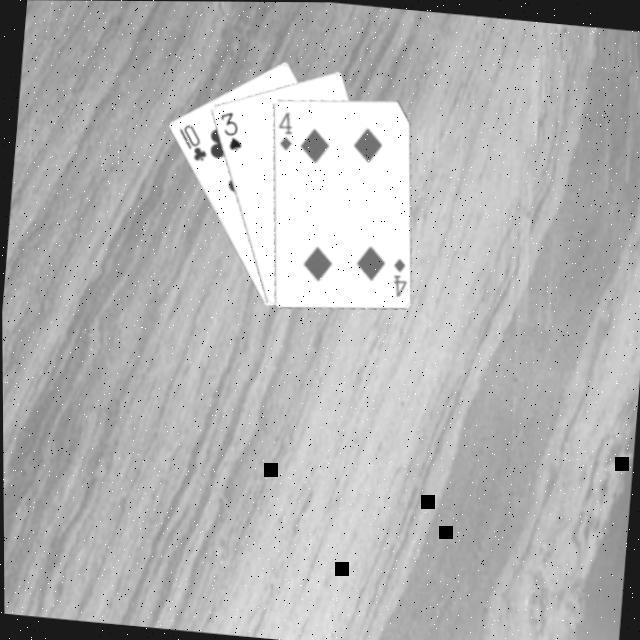10C: (173, 121, 213, 166)
3S: (214, 109, 248, 155)
4D: (387, 254, 411, 301), (274, 109, 298, 155)
